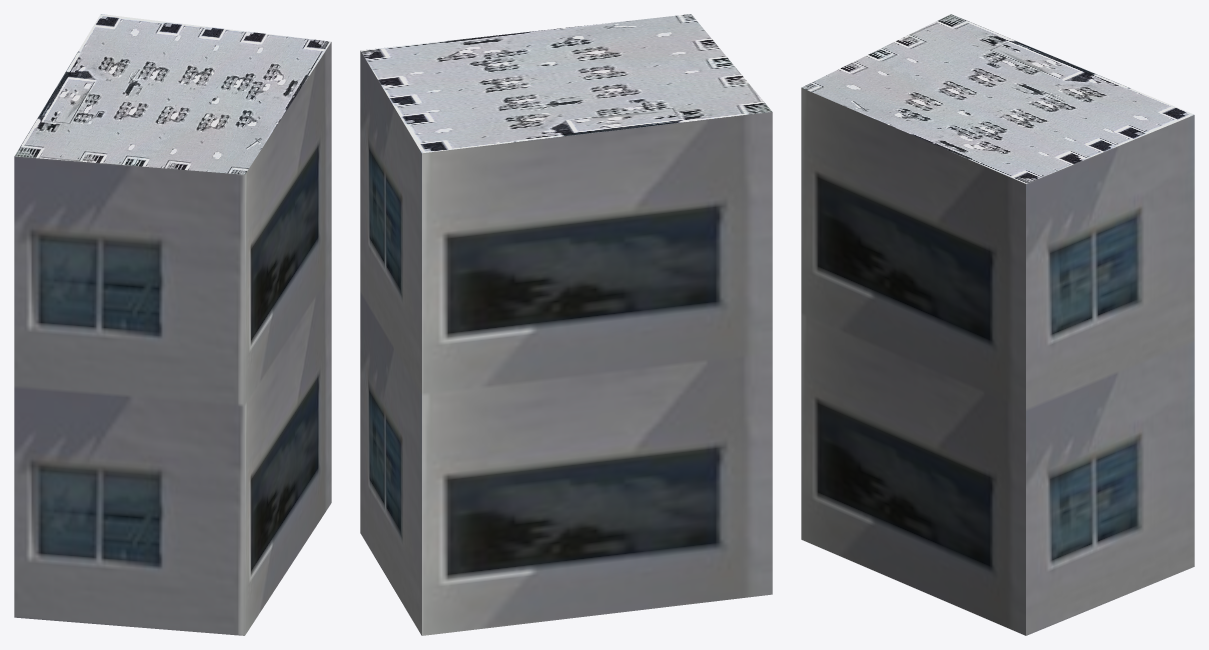
File: ResTex__10.fbx
The picture shows the model from 3 angles, left to right: view 1: azimuth 30°, elevation 25°; view 2: azimuth 150°, elevation 25°; view 3: azimuth 270°, elevation 25°; orthographic projection. The views are drawn at different scales.
Visible parts, largest first — view 1: CityEngineMaterial_10_m, CityEngineMaterial_8_m; view 2: CityEngineMaterial_10_m, CityEngineMaterial_8_m; view 3: CityEngineMaterial_10_m, CityEngineMaterial_8_m.
Boxes of the visible parts, left/top/right/bottom form: CityEngineMaterial_10_m: left=14, top=42, right=331, bottom=635; CityEngineMaterial_8_m: left=14, top=14, right=331, bottom=174; CityEngineMaterial_10_m: left=360, top=51, right=772, bottom=635; CityEngineMaterial_8_m: left=360, top=14, right=772, bottom=153; CityEngineMaterial_10_m: left=801, top=88, right=1194, bottom=635; CityEngineMaterial_8_m: left=801, top=14, right=1194, bottom=183.
Bounding box in the file's own units: 4.84 × 6 × 4.74.
2 materials, 2 textured.
